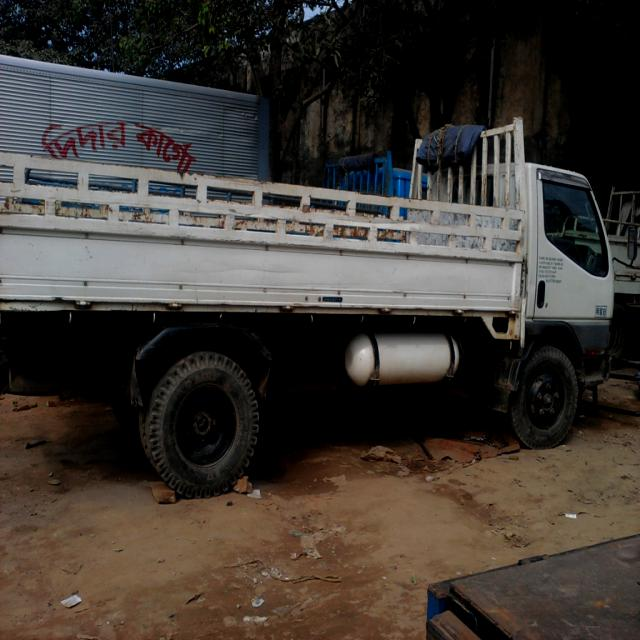truck: (1, 118, 615, 494)
